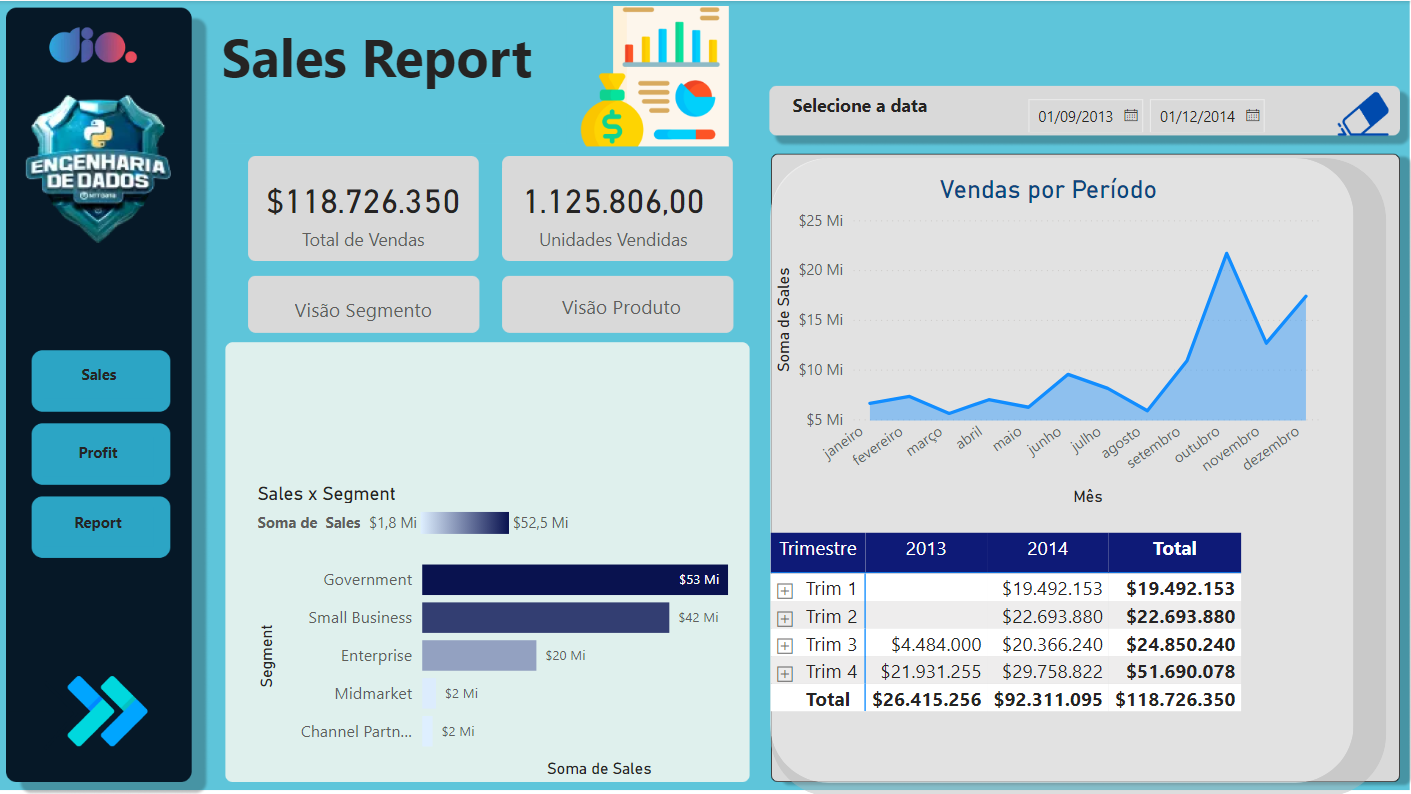

What the dashboard file says about the page in this screenshot:
{"tool":"powerbi","page":{"name":"Sales","canvas":[1280,720],"ordinal":0},"visuals":[{"type":"slicer","fields":{"Values":["financials.Date"]},"box":[917.7,78.4,272.2,39.9],"z":0,"group":"g1"},{"type":"areaChart","title":"Vendas por Período","fields":{"Category":["financials.Date.Variation.Hierarquia de datas.Ano","financials.Date.Variation.Hierarquia de datas.Mês"],"Y":["Sum(financials. Sales)"]},"box":[696.5,157.8,505.4,304.1],"z":0,"group":"g3"},{"type":"clusteredBarChart","title":"Sales x Segment","fields":{"Category":["financials.Segment"],"Y":["Sum(financials. Sales)"]},"box":[227.9,435.3,479.7,272.3],"z":0,"group":"g2"},{"type":"actionButton","title":"Botão - Next","box":[0,608.3,164.9,77.1],"z":0},{"type":"group","id":"g1","title":"Filtro por data","box":[712,73.9,551.6,55.6],"z":1000},{"type":"textbox","box":[712,78,177.7,47.4],"z":1000,"group":"g1"},{"type":"actionButton","box":[1203.8,78.2,59.9,51.3],"z":2000,"group":"g1"},{"type":"shape","box":[696.9,141.9,557.7,578.1],"z":2000},{"type":"actionButton","title":"B-Segmento","box":[229.8,260.4,197.9,34.7],"z":2000,"group":"g2"},{"type":"image","title":"clean","box":[1203.8,73.9,59.9,55.6],"z":3000,"group":"g1"},{"type":"group","id":"g2","title":"Grupo 1","box":[227.9,258.9,479.7,448.7],"z":3000},{"type":"actionButton","title":"B-Produto","box":[464.9,258.9,194.3,33.7],"z":3000,"group":"g2"},{"type":"shape","box":[696.9,141.9,528.5,565.7],"z":4000},{"type":"group","id":"g3","title":"Perspectiva temporal das vendas","box":[696.5,157.8,505.4,304.1],"z":5000},{"type":"pivotTable","fields":{"Values":["Sum(financials. Sales)"],"Columns":["financials.Date.Variation.Hierarquia de datas.Ano"],"Rows":["financials.Date.Variation.Hierarquia de datas.Trimestre","financials.Date.Variation.Hierarquia de datas.Mês"]},"box":[692.8,475.7,478.7,193.3],"z":6000},{"type":"card","fields":{"Values":["Sum(financials. Sales)"]},"box":[227.9,151.6,201.3,78],"z":7000},{"type":"card","fields":{"Values":["Sum(financials.Units Sold)"]},"box":[454,151.6,201.3,78],"z":8000},{"type":"textbox","box":[196,11.5,317.4,117],"z":9000},{"type":"textbox","box":[39.9,323.6,99.3,36.4],"z":10000},{"type":"actionButton","box":[25.7,315.7,133,55.9],"z":11000},{"type":"textbox","box":[38.9,394.7,99.6,36.2],"z":12000},{"type":"textbox","box":[38.9,458,99.6,36.2],"z":13000},{"type":"actionButton","box":[42.5,391.1,99.6,39.8],"z":14000},{"type":"actionButton","box":[39.4,455.3,99.9,40.4],"z":15000}]}

Visuals, with their boxes in screenshot pixels (x1, y1, x2, y2), scaled from the page's 1280x720 canvas onto the 1411x794 screenshot:
slicer - financials.Date: <box>1012,86,1312,130</box>
"Vendas por Período" areaChart: <box>768,174,1325,509</box>
"Sales x Segment" clusteredBarChart: <box>251,480,780,780</box>
"Botão - Next" actionButton: <box>0,671,182,756</box>
"Filtro por data" group: <box>785,81,1393,143</box>
textbox: <box>785,86,981,138</box>
actionButton: <box>1327,86,1393,143</box>
shape: <box>768,156,1383,793</box>
"B-Segmento" actionButton: <box>253,287,471,325</box>
"clean" image: <box>1327,81,1393,143</box>
"Grupo 1" group: <box>251,286,780,780</box>
"B-Produto" actionButton: <box>512,286,727,323</box>
shape: <box>768,156,1351,780</box>
"Perspectiva temporal das vendas" group: <box>768,174,1325,509</box>
pivotTable - Sum(financials. Sales) x financials.Date.Variation.Hierarquia de datas.Ano: <box>764,525,1291,738</box>
card - Sum(financials. Sales): <box>251,167,473,253</box>
card - Sum(financials.Units Sold): <box>500,167,722,253</box>
textbox: <box>216,13,566,142</box>
textbox: <box>44,357,153,397</box>
actionButton: <box>28,348,175,410</box>
textbox: <box>43,435,153,475</box>
textbox: <box>43,505,153,545</box>
actionButton: <box>47,431,157,475</box>
actionButton: <box>43,502,154,547</box>
